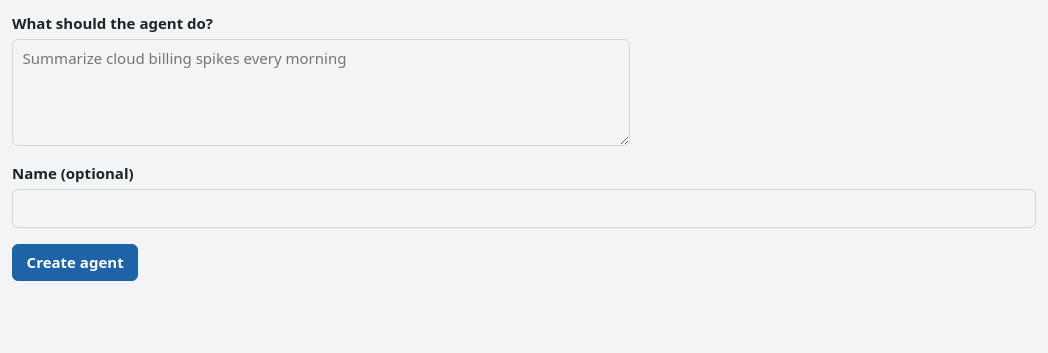
Scenario: CreatePanel › shows errors without notifying
Click the button "Create agent".
click(75, 262)  # box [12,244,138,281]
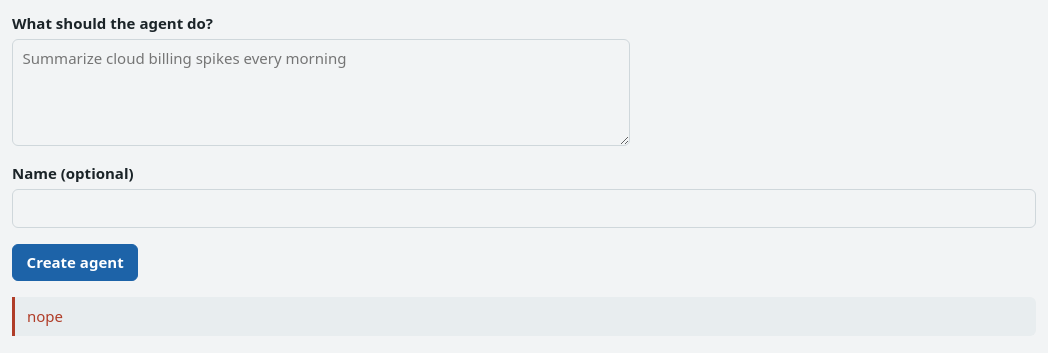
Now the text "nope" is shown, box [12,297,1036,336]
